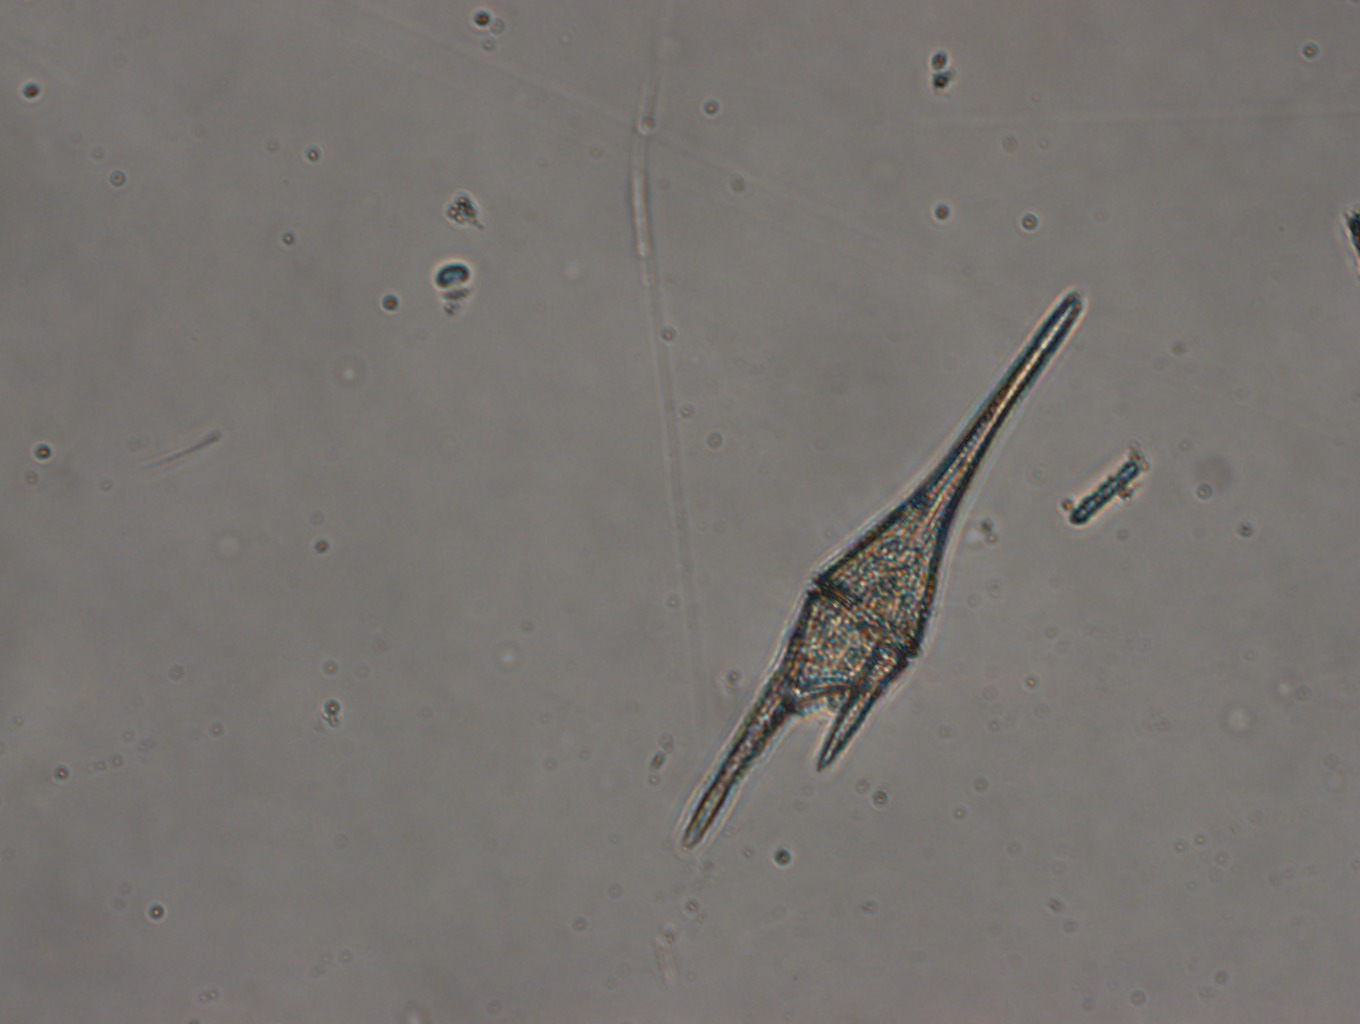ceratium furca: (675, 283, 1086, 850)
